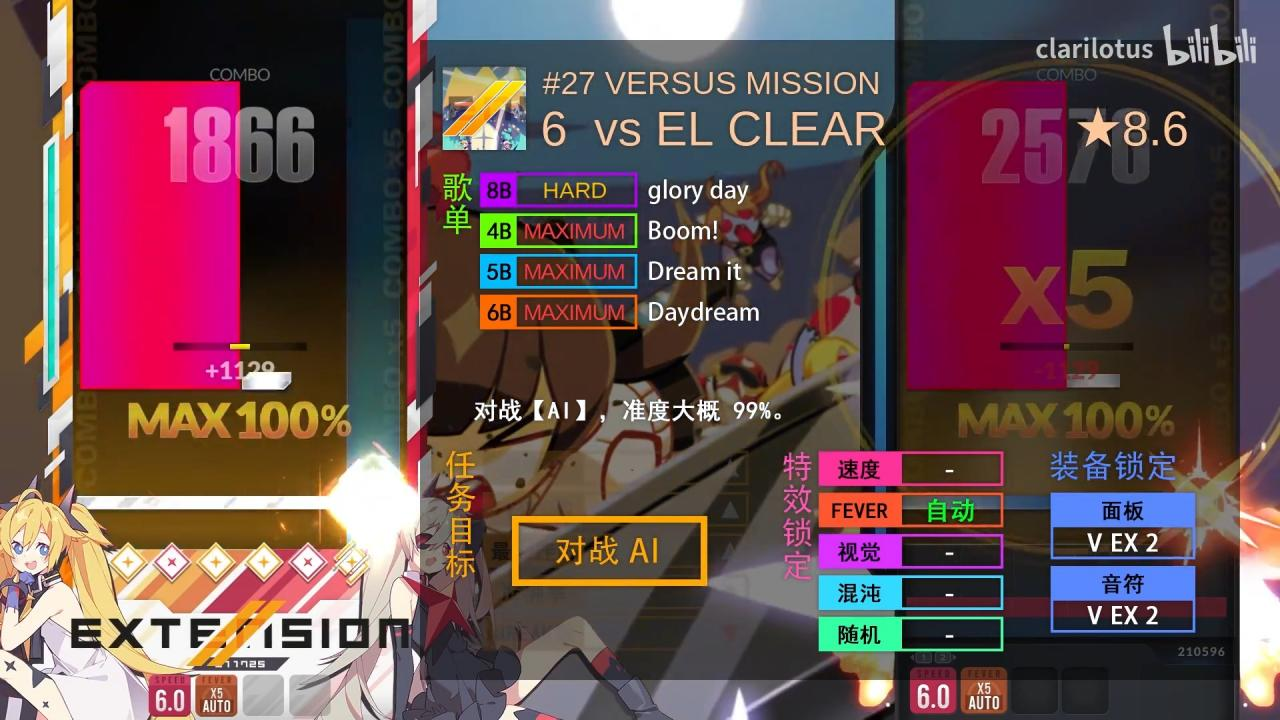note: (242, 371, 292, 391)
xend: (80, 80, 240, 99)
xstart: (78, 372, 241, 390)
